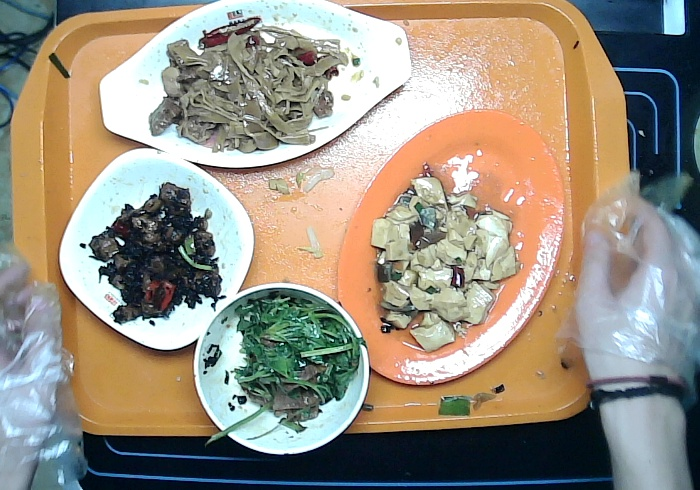NLDX-Bai_Se_Xiao_Fang_Die: (55, 141, 264, 354)
NLDX-Fan_Wan: (187, 279, 373, 458)
NLDX-Ju_Se_Pan: (333, 104, 569, 395)
NLDX-Yu_Pan: (89, 2, 416, 173)
